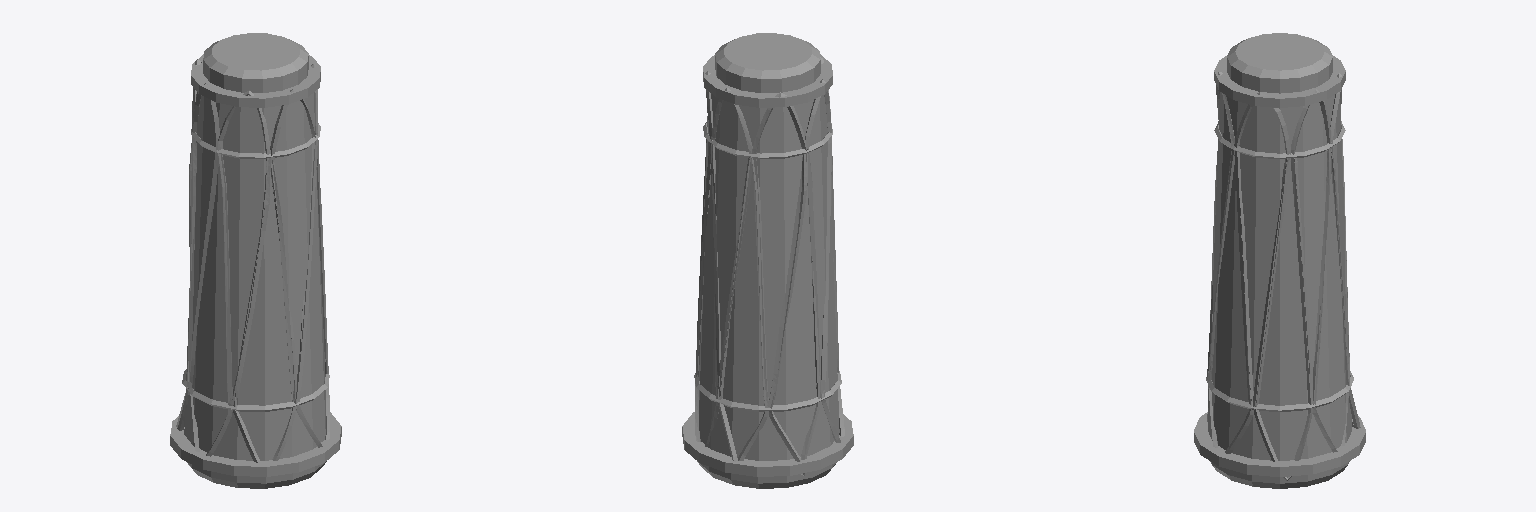
File: gendang1.obj
3 renders of one model, left to right at view 1: azimuth 30°, elevation 25°; view 2: azimuth 150°, elevation 25°; view 3: azimuth 270°, elevation 25°, orthographic.
Visible parts, largest first — view 1: Cylinder, BezierCurve_CUBezierCurve; view 2: Cylinder, BezierCurve_CUBezierCurve; view 3: Cylinder, BezierCurve_CUBezierCurve.
Part boxes in pixels (left/top/right/bottom): Cylinder: left=170, top=33, right=341, bottom=488; BezierCurve_CUBezierCurve: left=176, top=59, right=329, bottom=462; Cylinder: left=682, top=33, right=853, bottom=488; BezierCurve_CUBezierCurve: left=694, top=57, right=844, bottom=475; Cylinder: left=1194, top=33, right=1365, bottom=488; BezierCurve_CUBezierCurve: left=1206, top=72, right=1360, bottom=480.
Bounding box in the file's own units: 2.27 × 5.91 × 2.27.